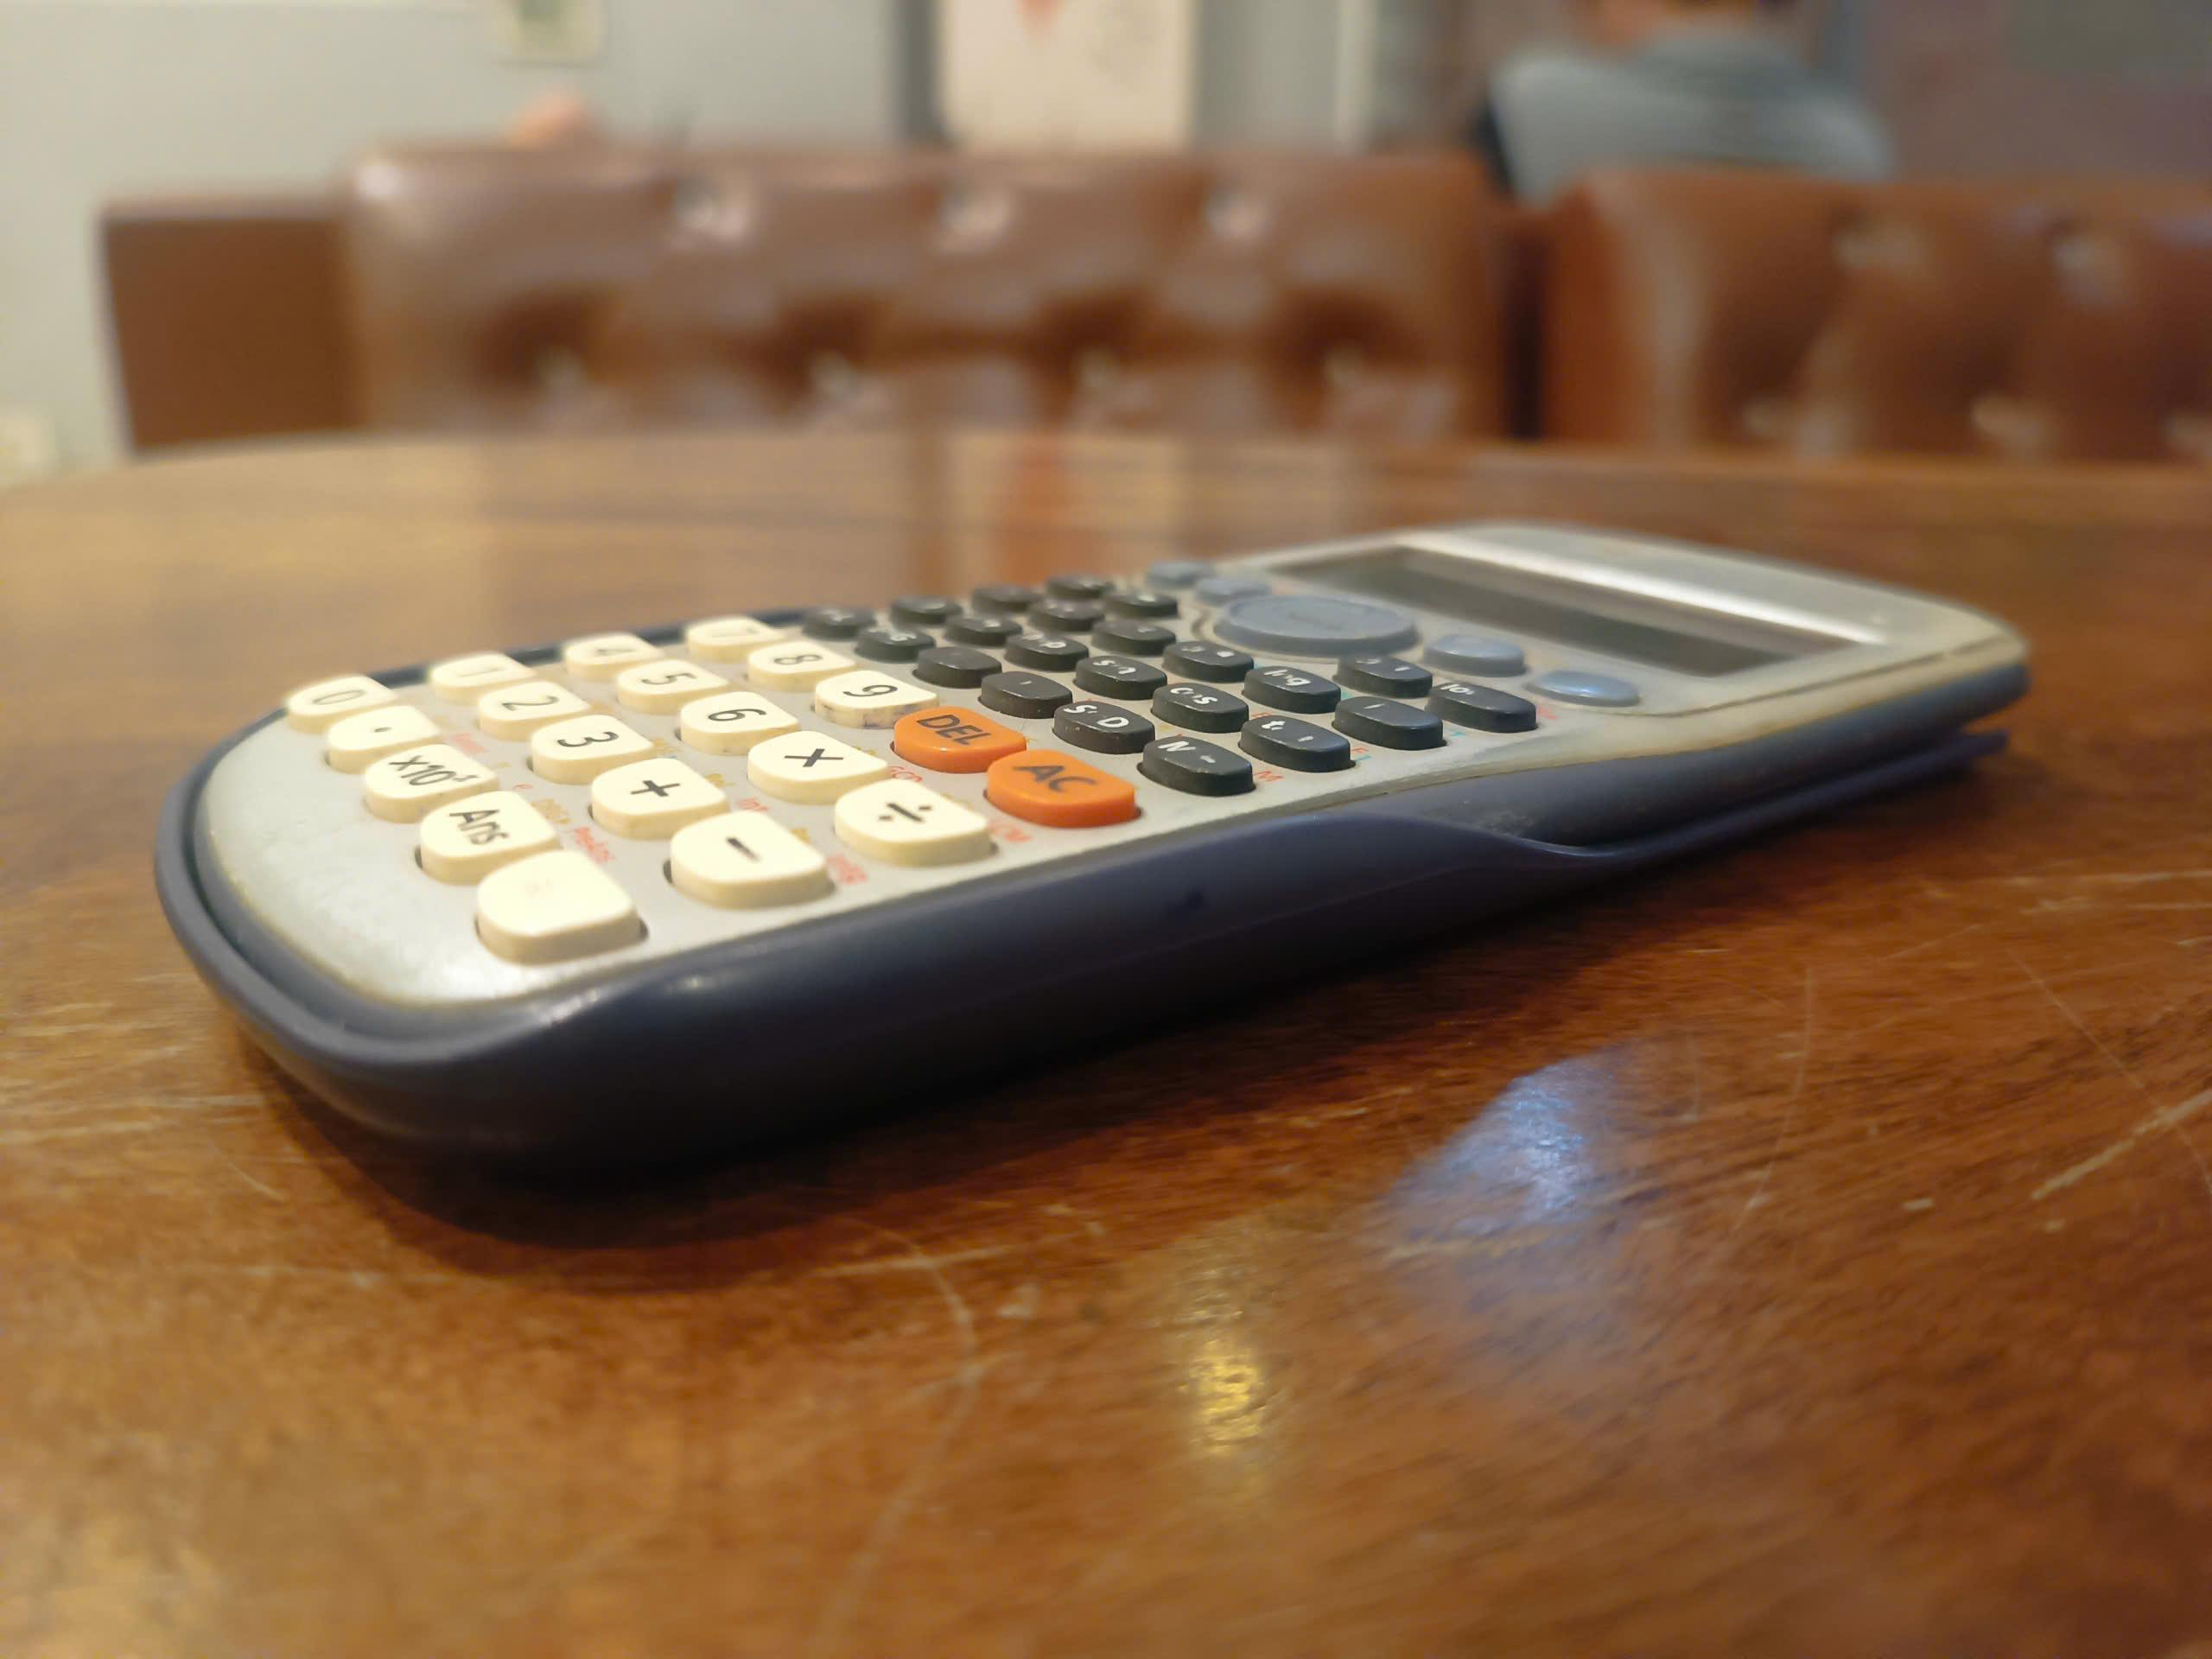Con lai: (150, 514, 2027, 1126)
